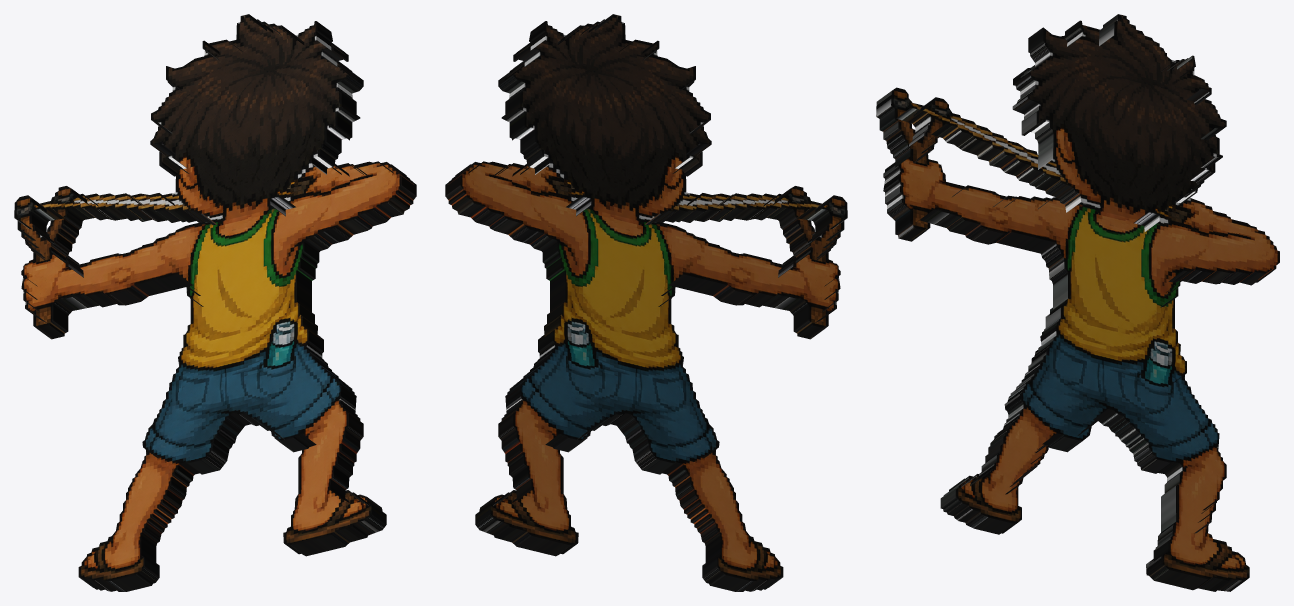
The model's file is garoto_costas.glb.
The picture shows the model from 3 angles, left to right: view 1: azimuth 30°, elevation 25°; view 2: azimuth 150°, elevation 25°; view 3: azimuth 330°, elevation 25°; orthographic projection.
Visible parts, largest first — view 1: world; view 2: world; view 3: world.
Part boxes in pixels (x1,y1,x2,y2): world: (14, 14, 416, 591); world: (445, 14, 847, 591); world: (876, 14, 1279, 591).
Bounding box in the file's own units: 6.44 × 8.6 × 0.4305.
1 material, 1 textured.
